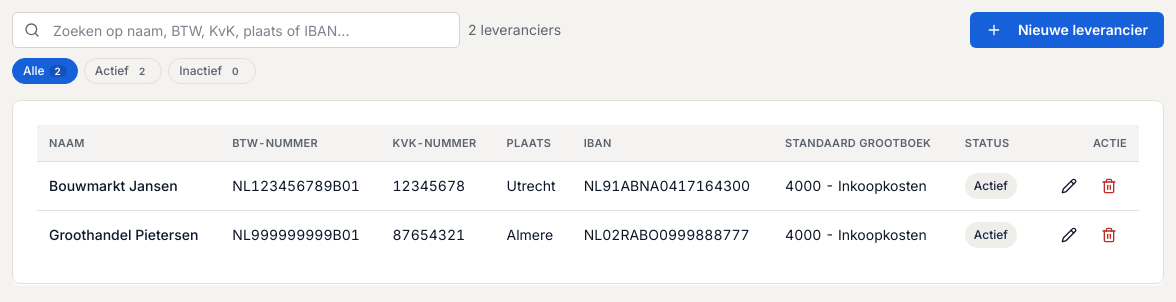
Test: Leveranciers pagina › zoekt op naam
The image size is (1176, 302).
Type "Jansen" into the field named "Zoeken in leveranciers" at {"x": 236, "y": 30}, box x1=12 y1=12 x2=460 y2=48
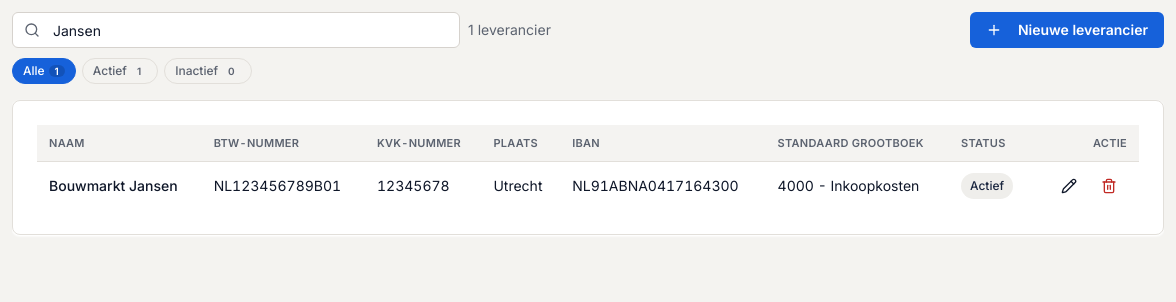
Expected: the text "Bouwmarkt Jansen" is shown, x1=49 y1=176 x2=190 y2=196
Expected: the text "Groothandel Pietersen" is gone
